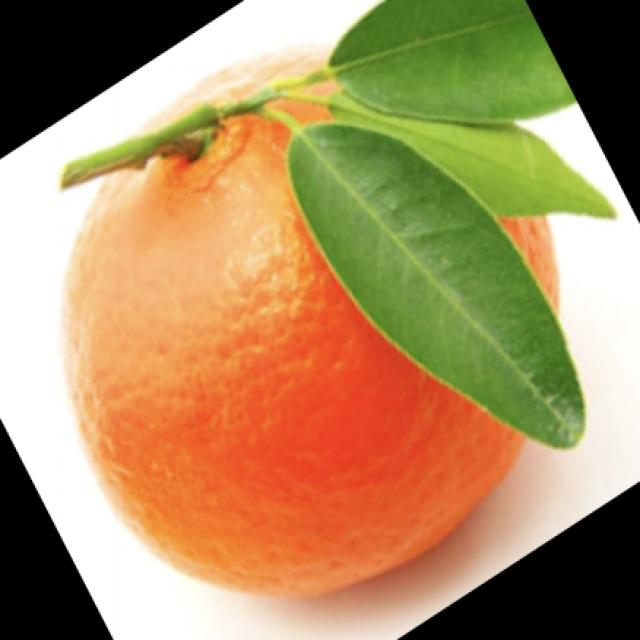fresh: (42, 55, 602, 599)
